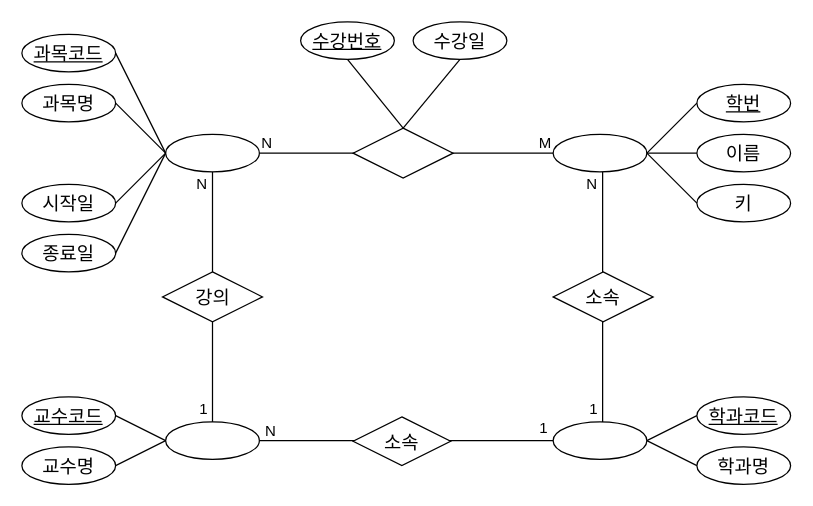
Some shapes in this 813 by 506 pixel diagram are drawn without their labels. Each missing label, with the centre of its shape:
개설과목: point (211, 152)
교수: point (211, 440)
수강: point (402, 152)
학과: point (599, 440)
학생: point (599, 152)
